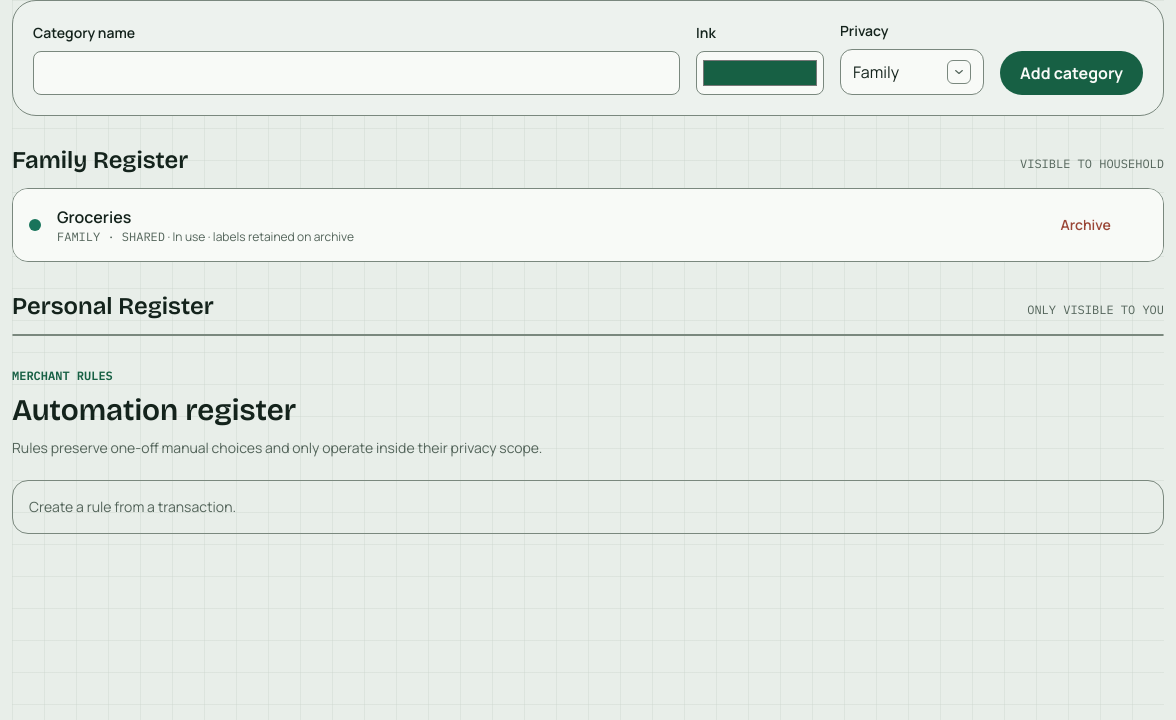
Test case: GH-7 category workbench acceptance › FE-002 archives an in-use custom category while explicitly retaining historical labels
The width and height of the screenshot is (1176, 720).
Expected: the text "Groceries" is shown, [57,206,131,228]
Expected: the text "Family · shared · In use · labels retained on archive" is shown, [57,228,354,245]
Step 1. Click the button "Archive" → x=1086, y=225, box [1024,207,1147,243]
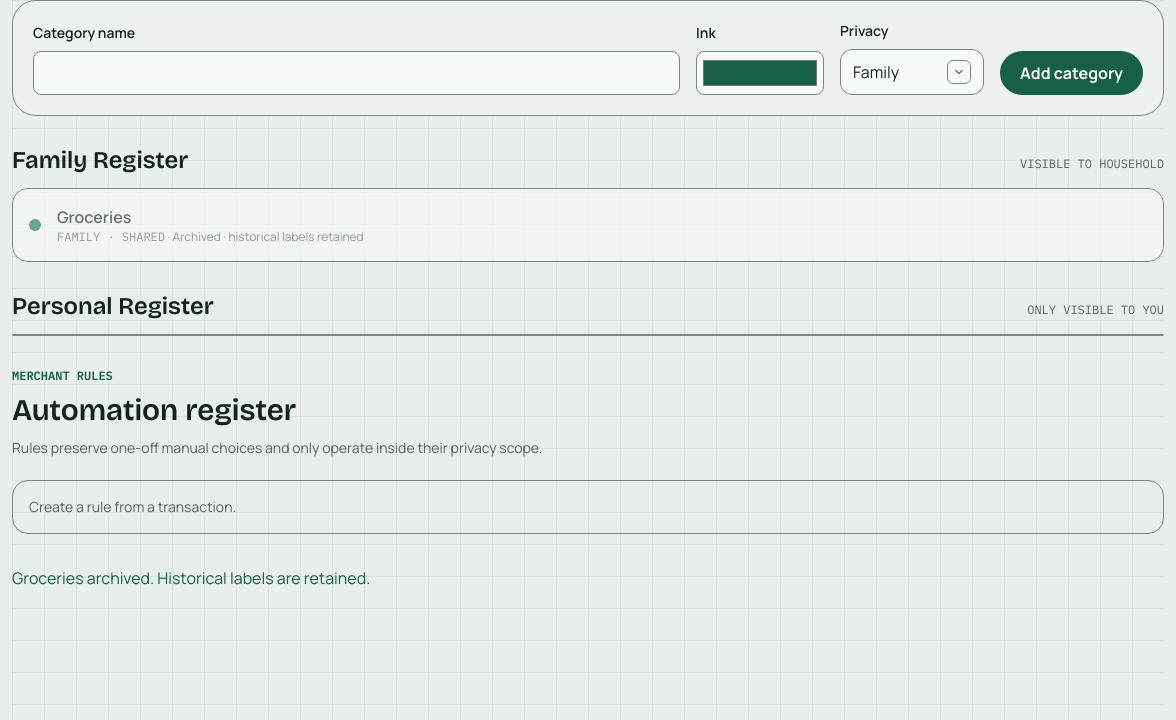
Expected: the heading "Groceries" is shown, [57,206,131,228]
Result: the text "Family · shared · Archived · historical labels retained" is shown at [57,228,364,245]
Result: the text "Groceries archived. Historical labels are retained." is shown at [12,567,370,589]
